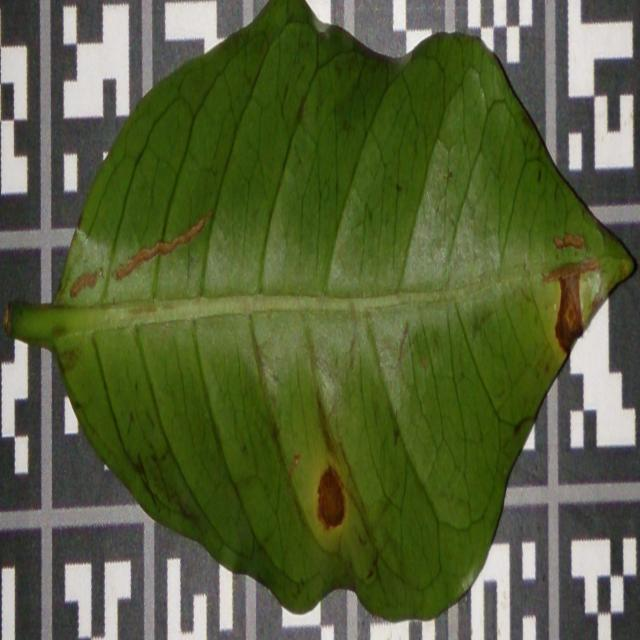Enfermedad-Mancha-de-hierro: (13, 0, 637, 624)
